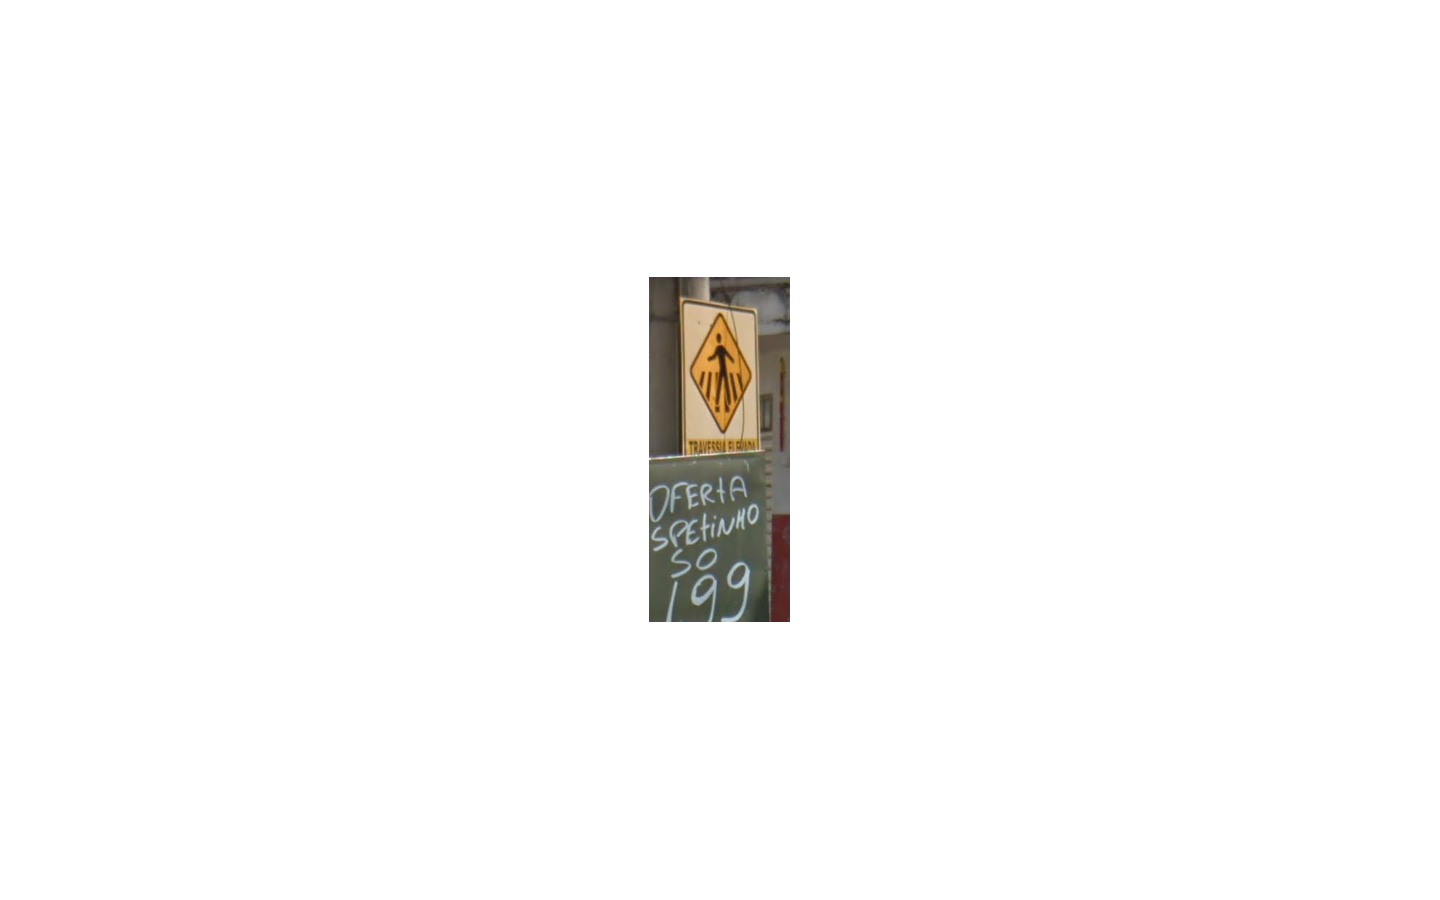telev: (679, 296, 760, 456)
